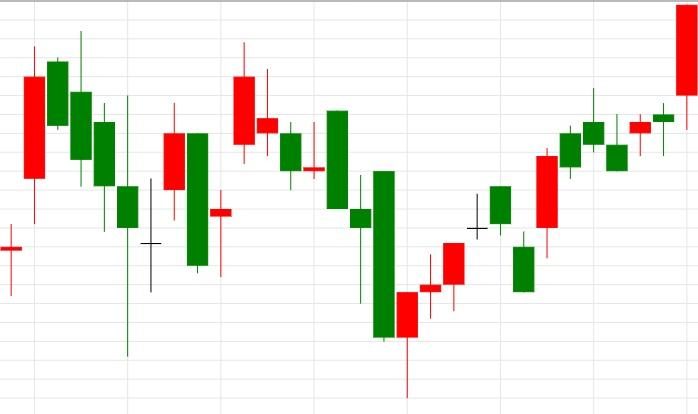hammer_rise: (280, 111, 418, 398)
morning_star_rise: (47, 30, 185, 356)
shooting_star_fall: (512, 88, 604, 292)
